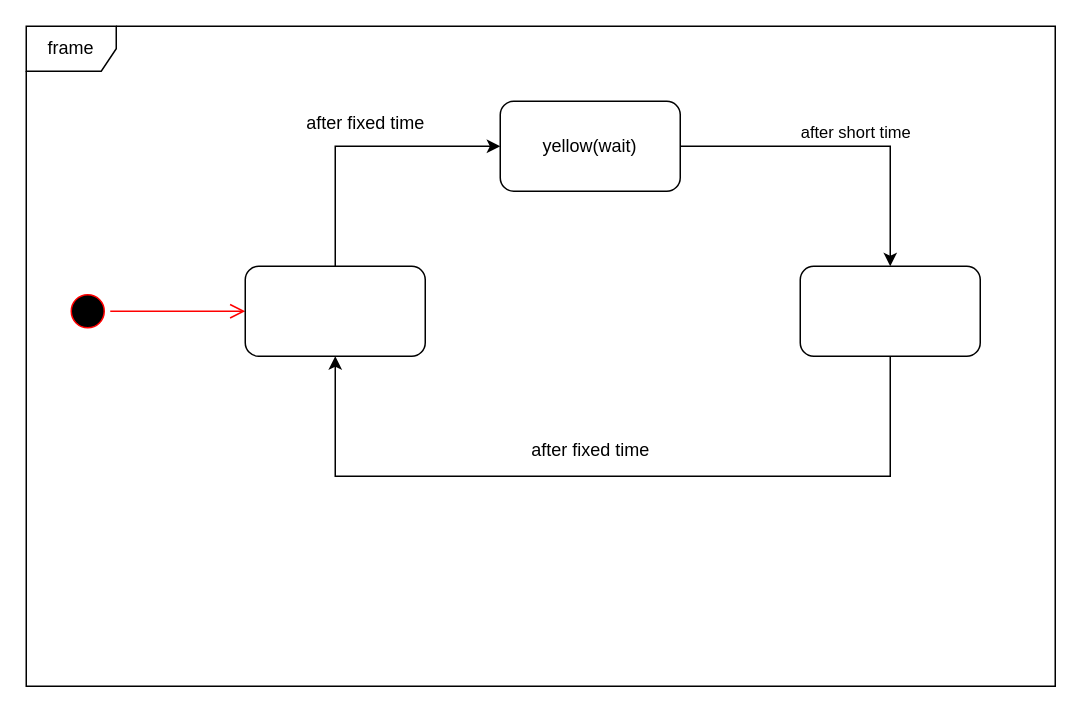
Image size: 1082x713. Some labels were removed from this diagram. The centre of each missing label's shape, as x and y in pixels:
"Green(go)" goes at (334,310).
"Red(stop)" goes at (889,310).
